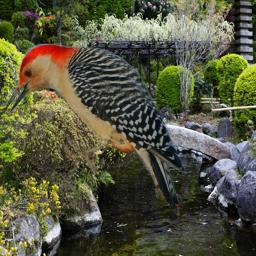Woodpecker: (3, 43, 189, 219)
